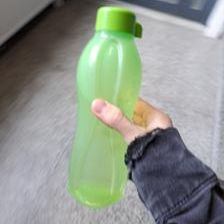bottle: (64, 4, 146, 209)
